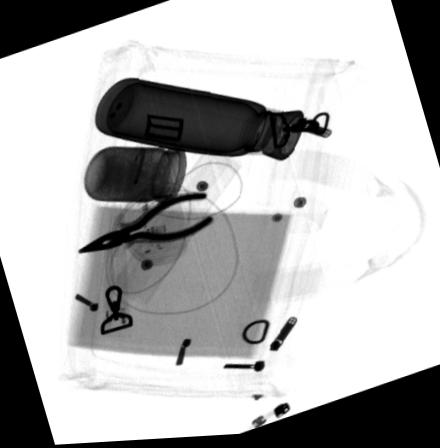Pliers: (75, 194, 214, 255)
